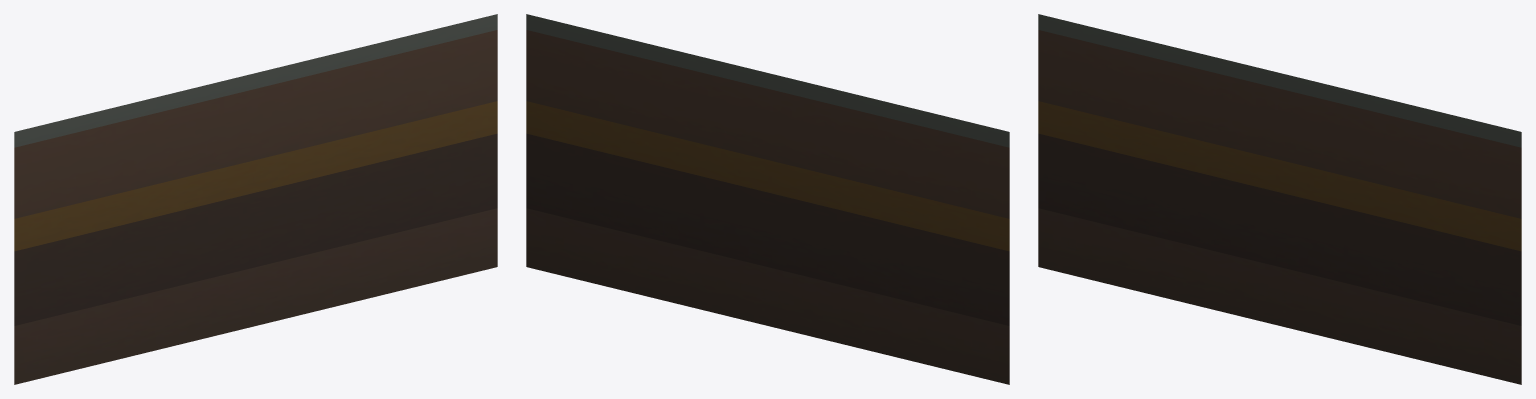
Rendered from earth_wall_x4.fbx.
3 renders of one model, left to right at view 1: azimuth 30°, elevation 25°; view 2: azimuth 150°, elevation 25°; view 3: azimuth 330°, elevation 25°, orthographic.
Visible parts, largest first — view 1: earth_wall_x4; view 2: earth_wall_x4; view 3: earth_wall_x4.
Boxes of the visible parts, left/top/right/bottom form: earth_wall_x4: left=14, top=14, right=497, bottom=384; earth_wall_x4: left=526, top=14, right=1009, bottom=384; earth_wall_x4: left=1038, top=14, right=1521, bottom=384.
Size of the model in its own units: 800 by 400 by 0.
